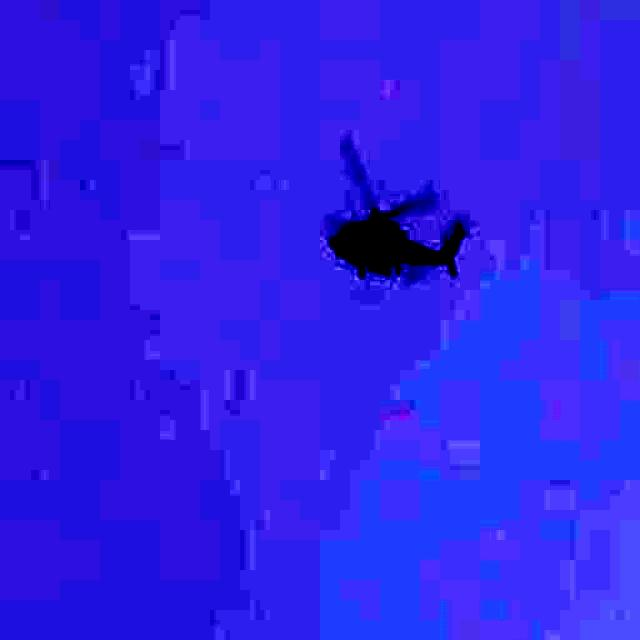drone: (324, 149, 470, 321)
